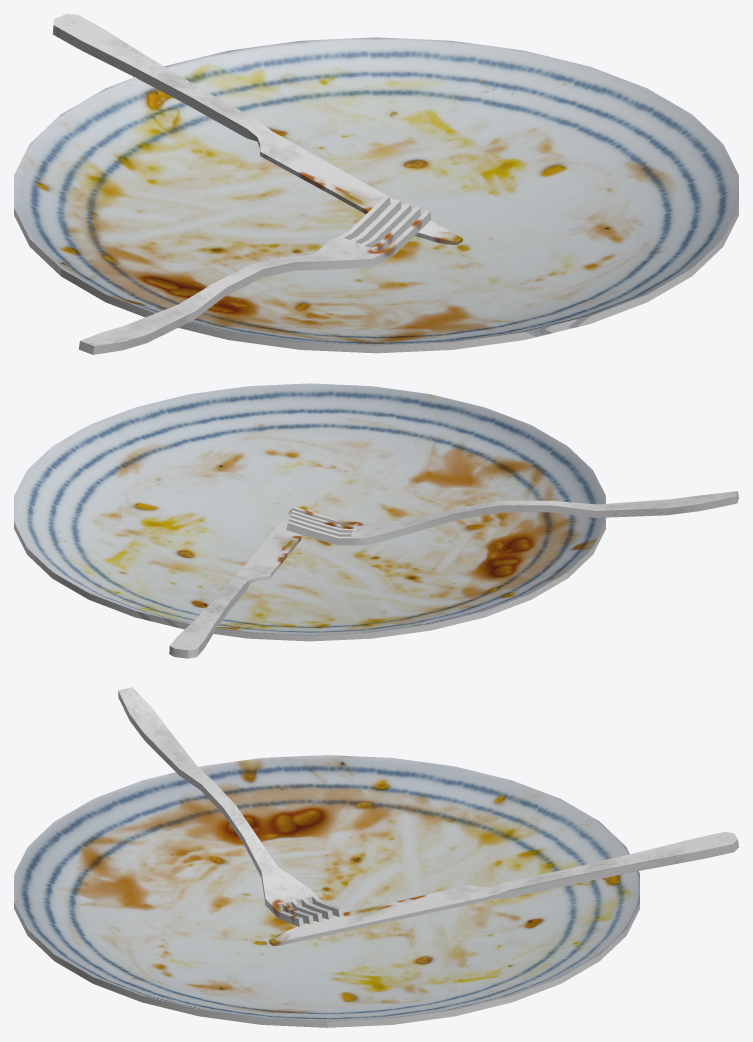
Rendered from SM_DirtyPlate.fbx.
The picture shows the model from 3 angles, top to bottom: view 1: azimuth 30°, elevation 25°; view 2: azimuth 150°, elevation 25°; view 3: azimuth 270°, elevation 25°; orthographic projection. The views are drawn at different scales.
Parts seen in each view (by area): view 1: SM_DirtyPlate_LOD0; view 2: SM_DirtyPlate_LOD0; view 3: SM_DirtyPlate_LOD0.
Boxes of the visible parts, <box> form: SM_DirtyPlate_LOD0: <box>14,14,738,354</box>; SM_DirtyPlate_LOD0: <box>14,383,738,658</box>; SM_DirtyPlate_LOD0: <box>14,687,738,1027</box>.
Size of the model in its own units: 49.83 by 49.88 by 5.38.
Materials: 1 (1 with a texture image).
